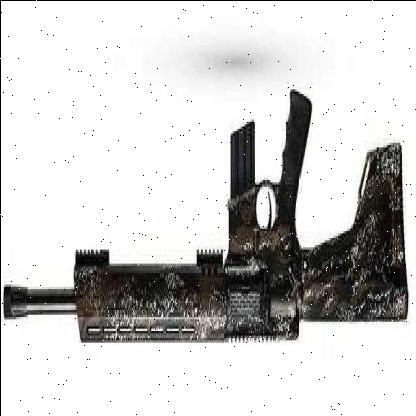rifle: (3, 16, 414, 370)
